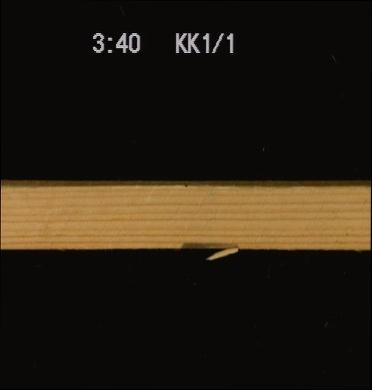wave: (177, 235, 242, 247)
